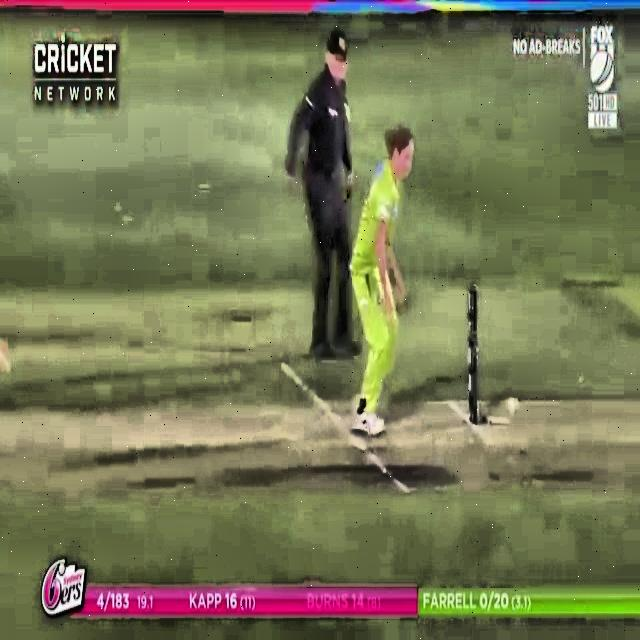Ball: (498, 387, 533, 423)
Pitch_Line: (275, 362, 412, 497)
Undis_Wicket: (454, 280, 486, 425)
